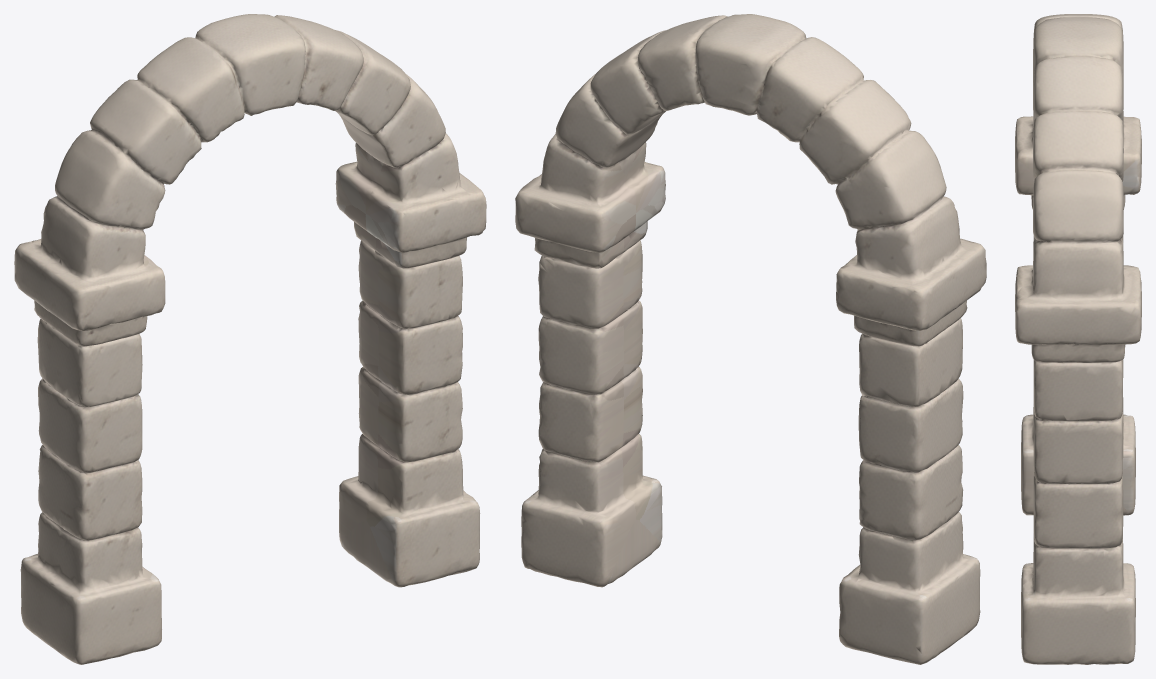
File: archway.glb
3 renders of one model, left to right at view 1: azimuth 30°, elevation 25°; view 2: azimuth 150°, elevation 25°; view 3: azimuth 270°, elevation 25°, orthographic. The views are drawn at different scales.
Parts seen in each view (by area): view 1: world; view 2: world; view 3: world.
Boxes of the visible parts, left/top/right/bottom form: world: left=14, top=14, right=486, bottom=664; world: left=515, top=14, right=986, bottom=664; world: left=1015, top=14, right=1141, bottom=664.
Size of the model in its own units: 1.45 by 1.91 by 0.405.
1 material, 1 textured.
